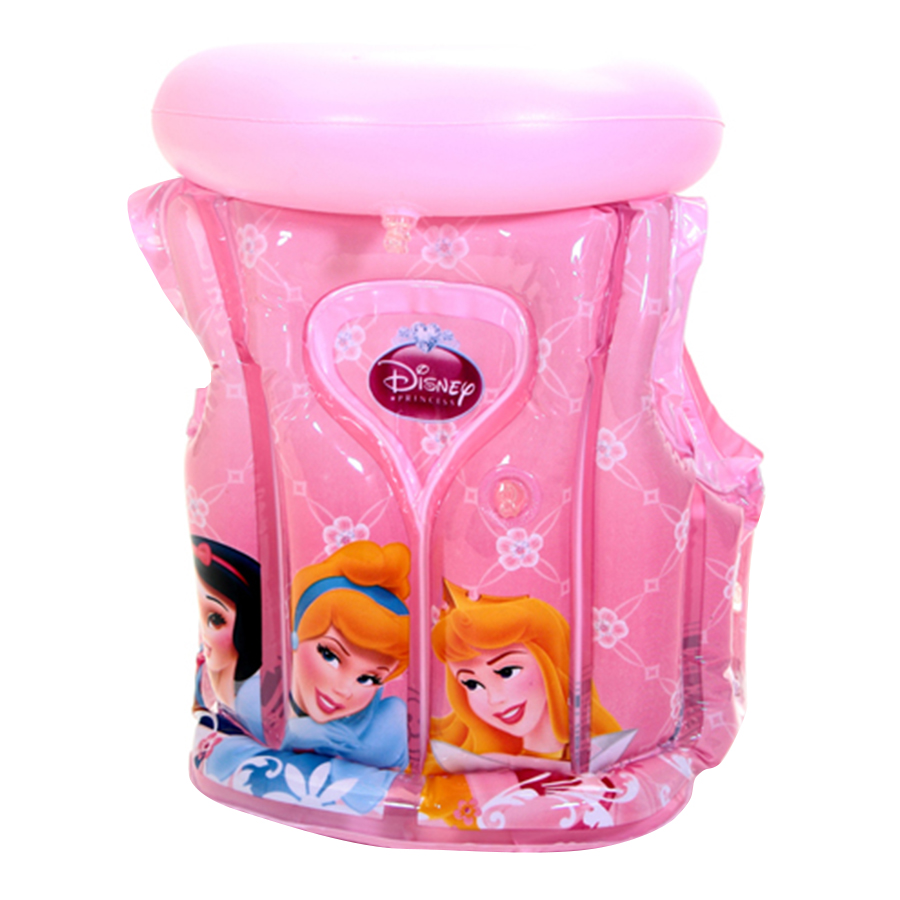Disney: (358, 336, 498, 425)
